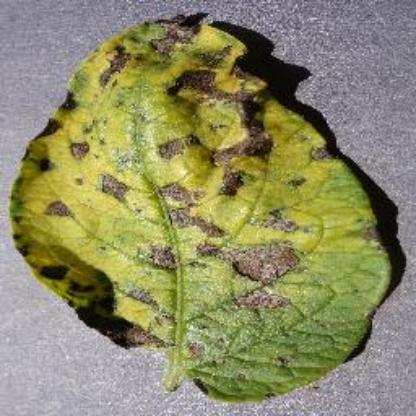Early-Blight: (7, 1, 412, 406)
